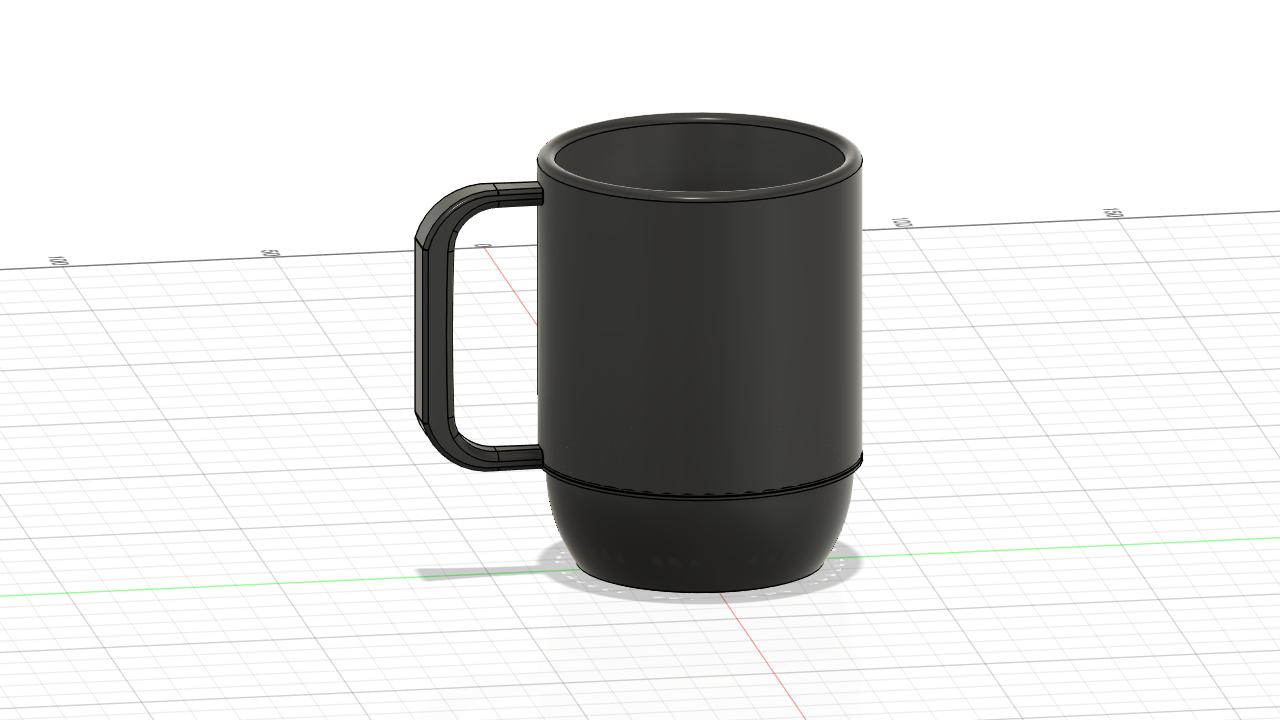mug-real100-3d100: (414, 113, 863, 591)
